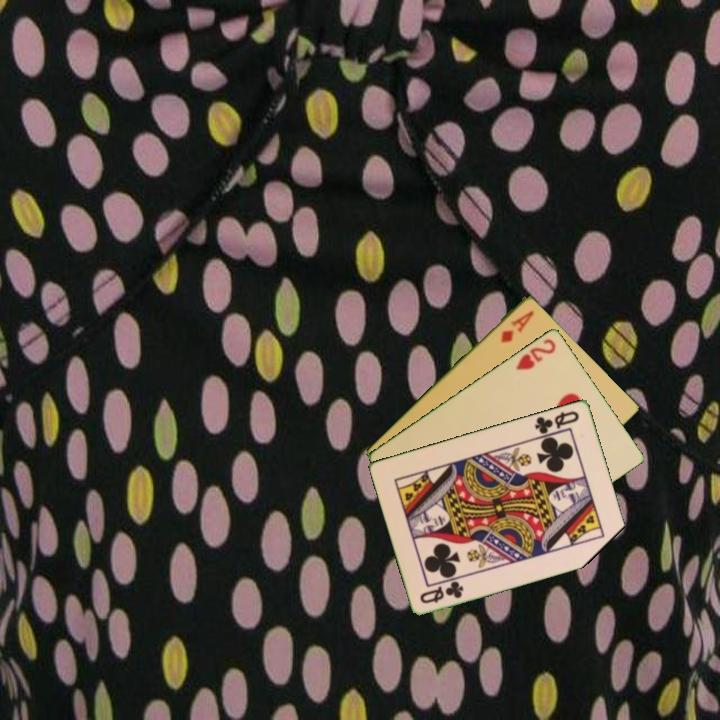2h: (512, 334, 559, 373)
Ad: (497, 306, 537, 345)
Qc: (531, 407, 582, 437), (416, 577, 467, 606)
